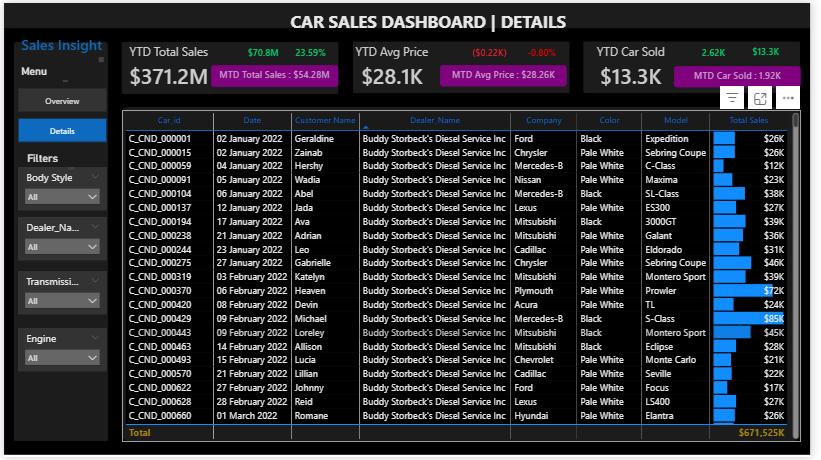

Layout of this report page (visuals, bound fields, positions):
{"tool":"powerbi","page":{"name":"Details","canvas":[1280,720],"ordinal":1},"visuals":[{"type":"card","title":"YTD Total Sales ","fields":{"Values":["Calculated_Measures.YTD sales"]},"box":[185,63.3,151.7,78.3],"z":0},{"type":"card","fields":{"Values":["Calculated_Measures.Sales Difference"]},"box":[368.3,61.7,86.7,38.3],"z":1000},{"type":"card","fields":{"Values":["Calculated_Measures.YoY Sales Growth"]},"box":[448.3,63.3,78.3,35],"z":2000},{"type":"card","title":"YTD Avg Price","fields":{"Values":["Calculated_Measures.AVG Price"]},"box":[548.6,62.9,132.9,78.6],"z":3000},{"type":"card","fields":{"Values":["Calculated_Measures.AVG Price Difference"]},"box":[727.1,61.4,87.1,38.6],"z":4000},{"type":"card","fields":{"Values":["Calculated_Measures.YOY Avg Price Growth"]},"box":[814.3,62.9,78.6,34.3],"z":5000},{"type":"card","fields":{"Values":["Calculated_Measures.MTD KPI"]},"box":[328.3,98.3,201.7,35],"z":6000},{"type":"card","fields":{"Values":["Calculated_Measures.MTD Avg Price KPI"]},"box":[691.4,98.6,201.4,34.3],"z":7000},{"type":"card","title":"YTD Car Sold ","fields":{"Values":["Calculated_Measures.YTD Car Sold"]},"box":[918.6,62.9,151.4,78.6],"z":8000},{"type":"card","fields":{"Values":["Calculated_Measures.Car Sold Difference"]},"box":[1082.9,61.4,87.1,38.6],"z":9000},{"type":"card","fields":{"Values":["Calculated_Measures.YTD Car Sold"]},"box":[1170,61.4,78.6,35.7],"z":10000},{"type":"card","fields":{"Values":["Calculated_Measures.MTD Car Sold KPI"]},"box":[1062.9,100,201.4,34.3],"z":11000},{"type":"textbox","title":"CAR SALES DASHBOARD | DETAILS","box":[391.4,11.4,562.9,40],"z":17000},{"type":"slicer","fields":{"Values":["car_data.Body Style"]},"box":[21.4,260,141.4,68.6],"z":18000},{"type":"slicer","fields":{"Values":["car_data.Transmission"]},"box":[21.4,425.7,141.4,68.6],"z":19000},{"type":"slicer","fields":{"Values":["car_data.Engine"]},"box":[21.4,515.7,141.4,68.6],"z":20000},{"type":"slicer","fields":{"Values":["car_data.Dealer_Name"]},"box":[21.4,340,141.4,68.6],"z":21000},{"type":"textbox","title":"Sales Insight","box":[22.2,50.8,141.3,47.6],"z":22000},{"type":"tableEx","fields":{"Values":["car_data.Car_id","car_data.Date","car_data.Customer Name","car_data.Dealer_Name","car_data.Company","car_data.Color","car_data.Model","Calculated_Measures.Total Sales"]},"box":[186.5,169.2,1078.8,526.9],"z":22001},{"type":"textbox","title":"Filters","box":[31.4,237.1,84.3,32.9],"z":22002},{"type":"textbox","title":"Menu","box":[22.2,98.4,84.1,31.7],"z":22003},{"type":"pageNavigator","box":[22.2,134.9,141.3,87.3],"z":22004}]}

Visuals, with their boxes in screenshot pixels (x1, y1, x2, y2), scaled from the page's 1280x720 canvas onto the 821x460 screenshot:
"YTD Total Sales " card: locate(119, 40, 216, 90)
card - Calculated_Measures.Sales Difference: locate(236, 39, 292, 64)
card - Calculated_Measures.YoY Sales Growth: locate(288, 40, 338, 63)
"YTD Avg Price" card: locate(352, 40, 437, 90)
card - Calculated_Measures.AVG Price Difference: locate(466, 39, 522, 64)
card - Calculated_Measures.YOY Avg Price Growth: locate(522, 40, 573, 62)
card - Calculated_Measures.MTD KPI: locate(211, 63, 340, 85)
card - Calculated_Measures.MTD Avg Price KPI: locate(443, 63, 573, 85)
"YTD Car Sold " card: locate(589, 40, 686, 90)
card - Calculated_Measures.Car Sold Difference: locate(695, 39, 750, 64)
card - Calculated_Measures.YTD Car Sold: locate(750, 39, 801, 62)
card - Calculated_Measures.MTD Car Sold KPI: locate(682, 64, 811, 86)
"CAR SALES DASHBOARD | DETAILS" textbox: locate(251, 7, 612, 33)
slicer - car_data.Body Style: locate(14, 166, 104, 210)
slicer - car_data.Transmission: locate(14, 272, 104, 316)
slicer - car_data.Engine: locate(14, 329, 104, 373)
slicer - car_data.Dealer_Name: locate(14, 217, 104, 261)
"Sales Insight" textbox: locate(14, 32, 105, 63)
tableEx - car_data.Car_id x car_data.Date: locate(120, 108, 812, 445)
"Filters" textbox: locate(20, 151, 74, 172)
"Menu" textbox: locate(14, 63, 68, 83)
pageNavigator: locate(14, 86, 105, 142)
